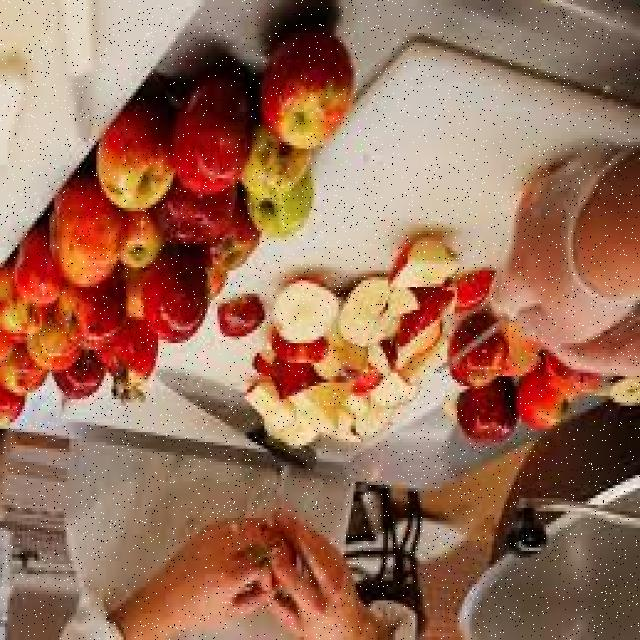Apple: (262, 38, 354, 149), (181, 78, 248, 193), (45, 191, 122, 287), (97, 115, 174, 209), (145, 257, 205, 345), (236, 129, 310, 198), (444, 314, 512, 388), (273, 280, 336, 346), (100, 317, 154, 394), (247, 177, 315, 236), (387, 232, 458, 288), (348, 276, 420, 323), (399, 291, 461, 345), (458, 382, 514, 440), (240, 376, 296, 431), (26, 320, 78, 370), (518, 375, 563, 431), (210, 218, 257, 271), (216, 293, 265, 341), (55, 354, 106, 399), (268, 363, 329, 398), (122, 213, 159, 268), (4, 346, 44, 396), (454, 272, 496, 310), (0, 392, 25, 429), (348, 370, 382, 396)
